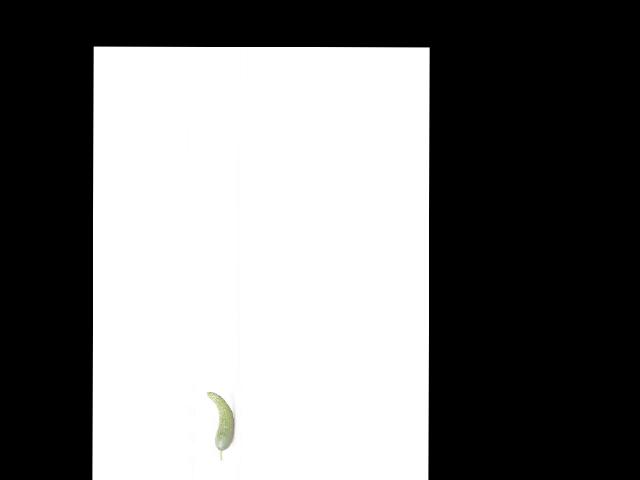cucumber: (206, 392, 234, 460)
